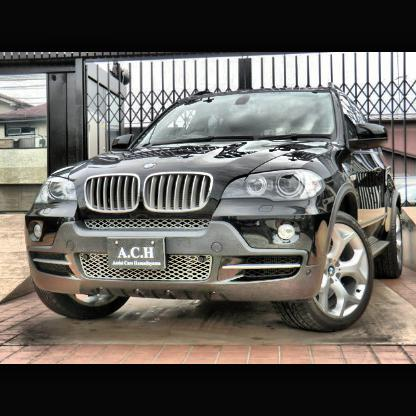BMW X5 SUV 2007: (25, 89, 404, 334)
